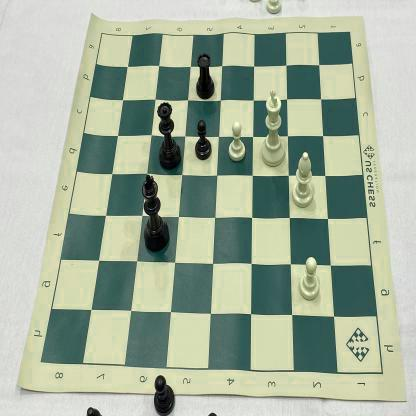black-king: (142, 174, 173, 254)
black-pawn: (193, 118, 214, 162)
black-queen: (156, 102, 182, 172)
black-rook: (194, 50, 216, 101)
white-bishop: (288, 150, 316, 209)
white-king: (260, 87, 288, 169)
white-pawn: (298, 252, 323, 302), (228, 120, 248, 162)
